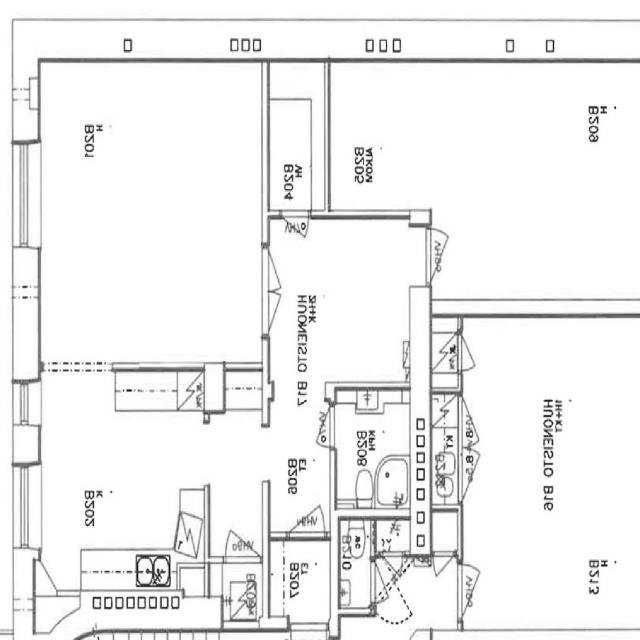door: (410, 228, 470, 286), (290, 479, 324, 539), (226, 506, 260, 563), (263, 291, 298, 335), (263, 248, 298, 291), (302, 405, 336, 447), (282, 209, 309, 257), (291, 616, 326, 640), (35, 558, 57, 596)
